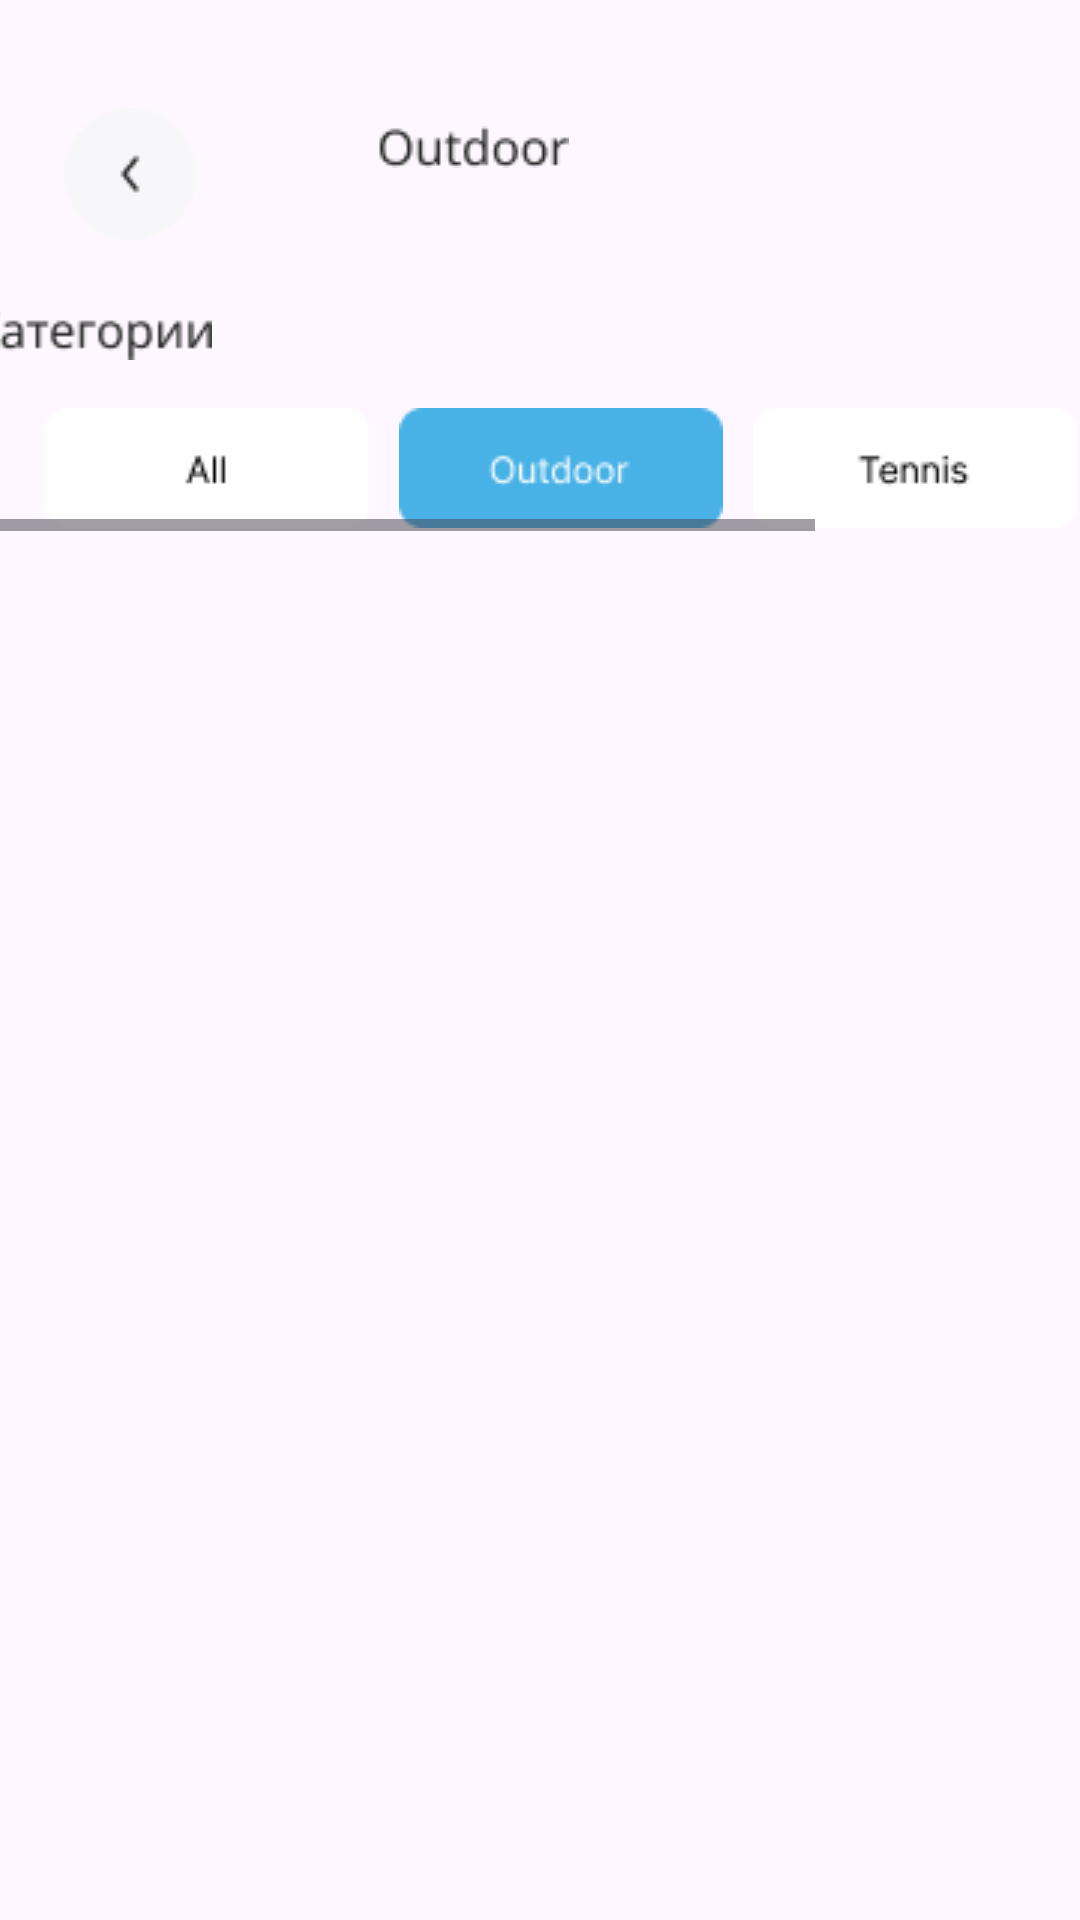

Point at icon controls on the screen. Image size 1080×1920, points as point (x, y).
back: point (130, 174)
